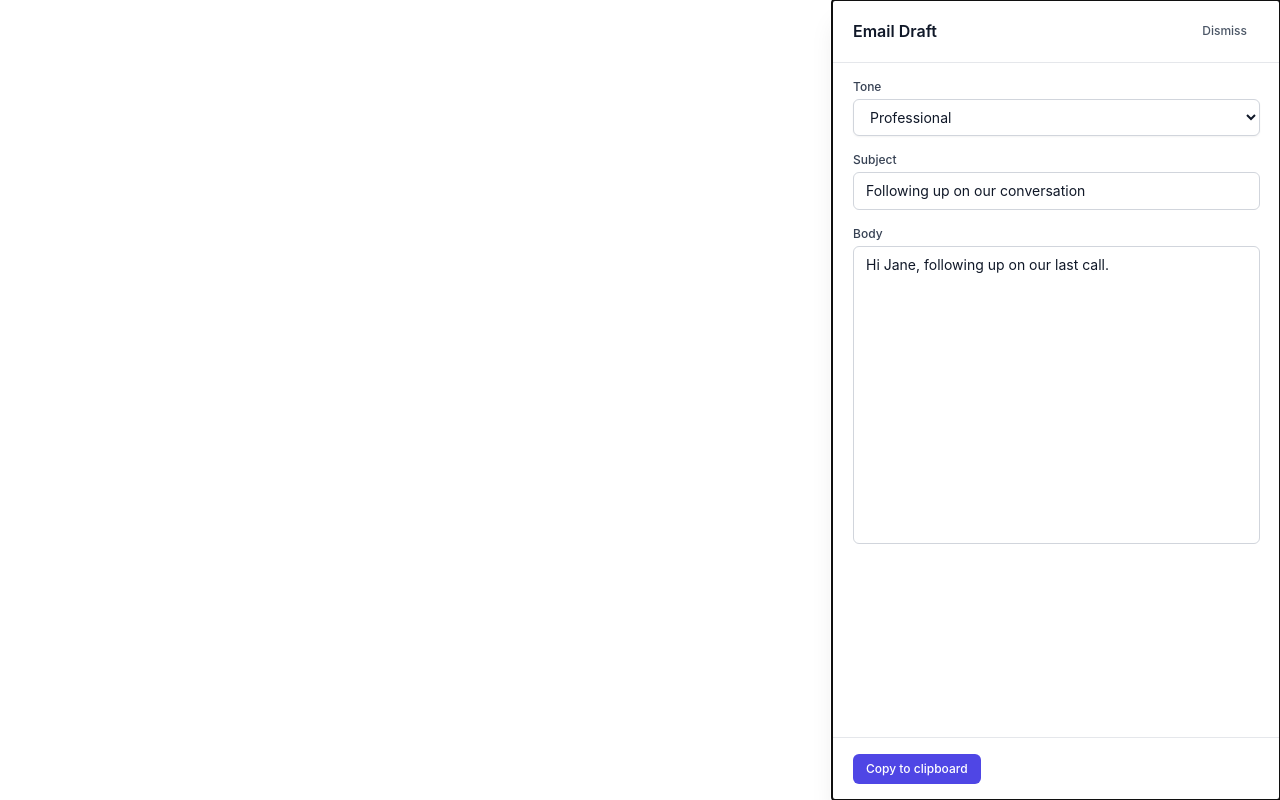
Scenario: EmailDraftPanel › copies the subject and body to the clipboard
The image size is (1280, 800).
What coordinates should you click on to do the following:
click the button with test id "email-draft-copy-button"
I would click on:
 (917, 769)
Its box is [853, 754, 981, 784].
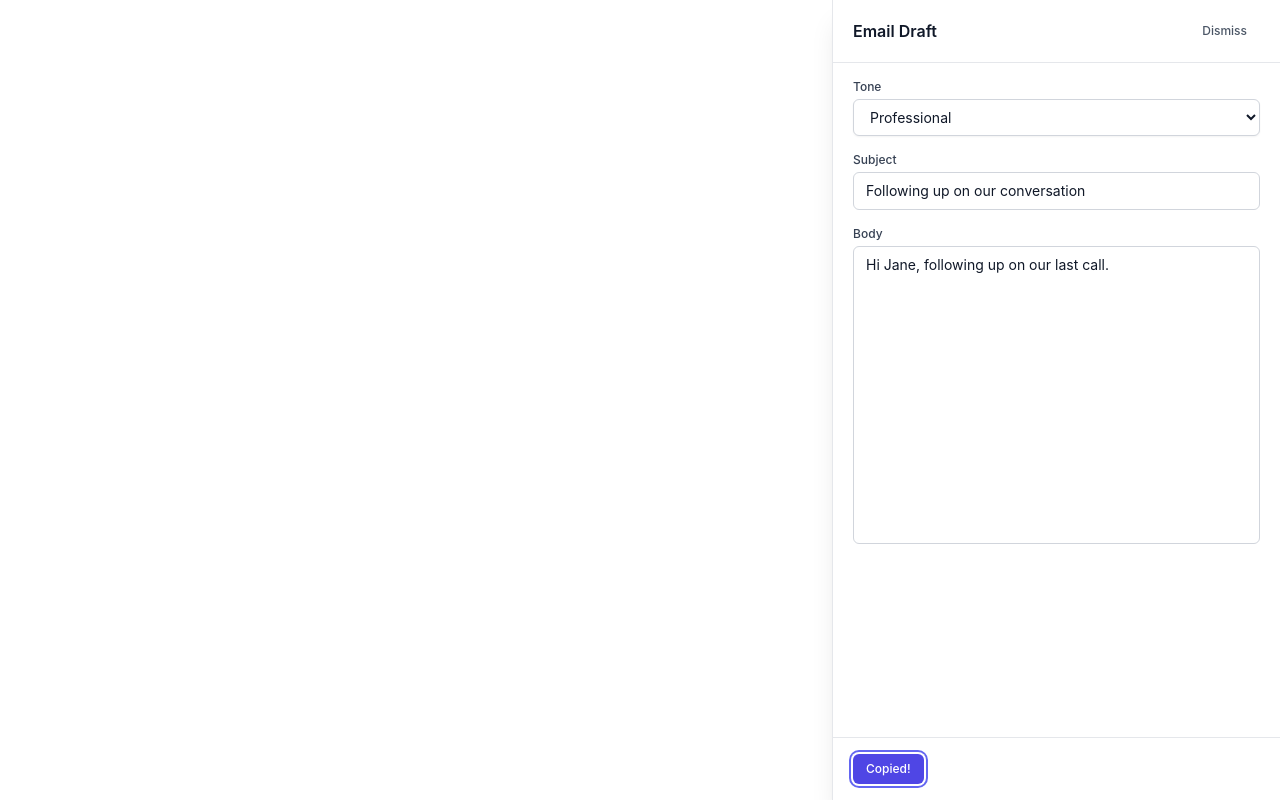
Now the button with test id "email-draft-copy-button" shows "Copied", box [853, 754, 924, 784]
